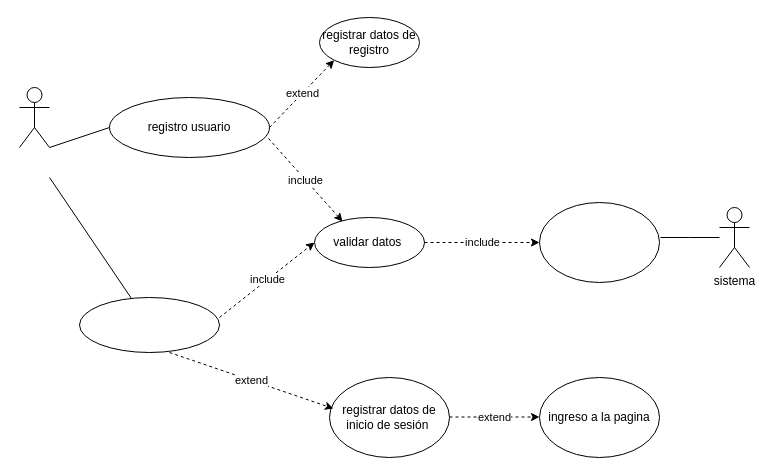
Image size: 772x475. Some labels were removed from this diagram. Here are the shapes that lost their labels. From the top down, the centre of each, then its label:
At (x=34, y=117): "cliente".
At (x=599, y=242): "guardar datos".
At (x=149, y=324): "inicio de sesión".
